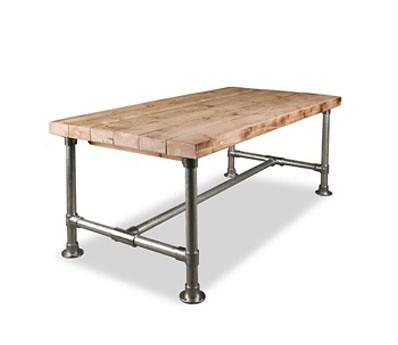table: (49, 86, 343, 305)
